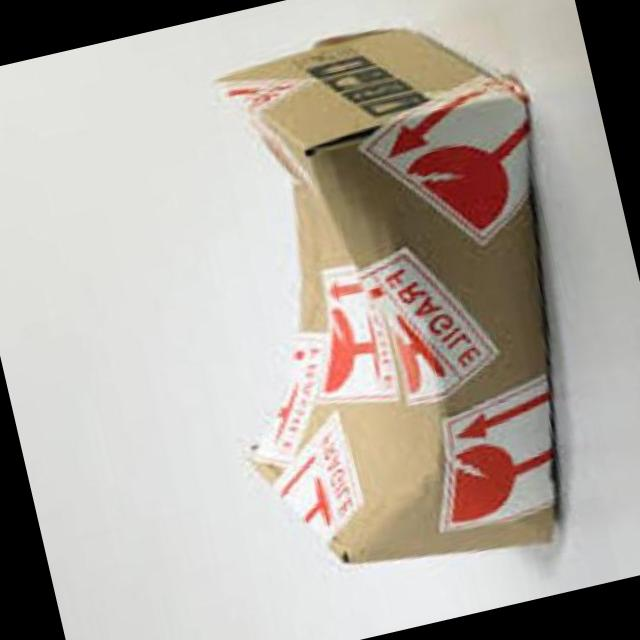box: (252, 26, 532, 566)
crushed: (212, 77, 448, 566)
